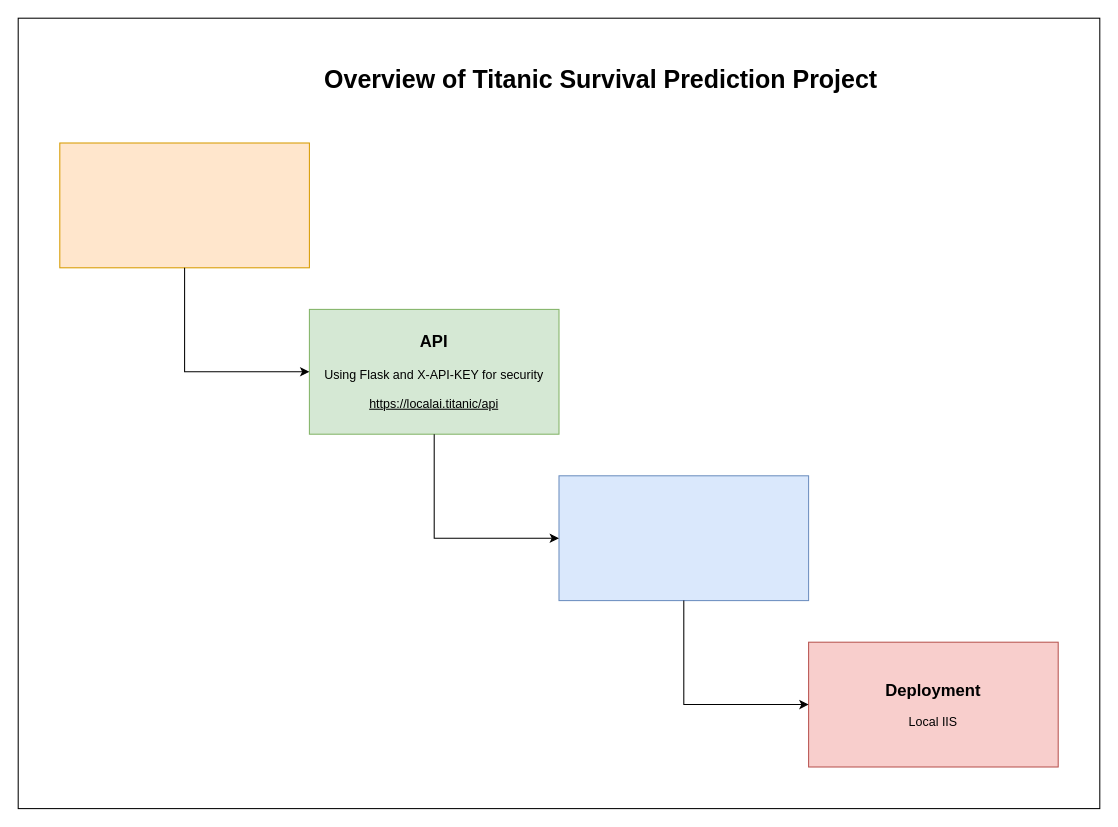
Some shapes in this 1118 by 827 pixel diagram are drawn without their labels. The centre of each missing label's shape, as x and y in pixels:
"Jupyter Notebook EDA, Feature Engineering, Train Model, Export Model" goes at point 184,205.
"User Interface Using Angular, Angular Material https://localai.titanic/app" goes at point 683,538.
